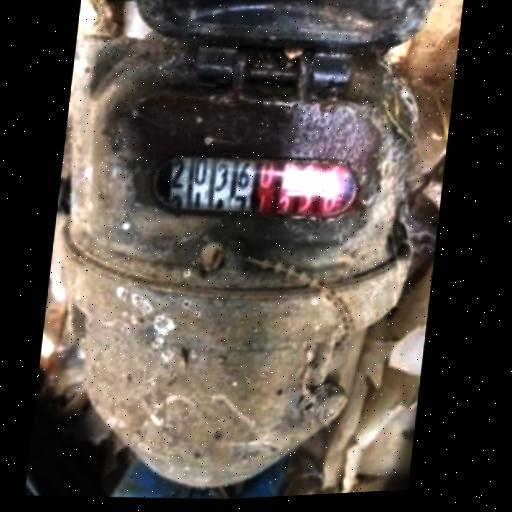0: (186, 155, 217, 212), (251, 155, 279, 215)
2: (164, 154, 194, 211), (274, 157, 302, 217)
3: (210, 156, 235, 212)
6: (229, 157, 257, 212)
border_water_meter_number: (145, 145, 363, 230)
